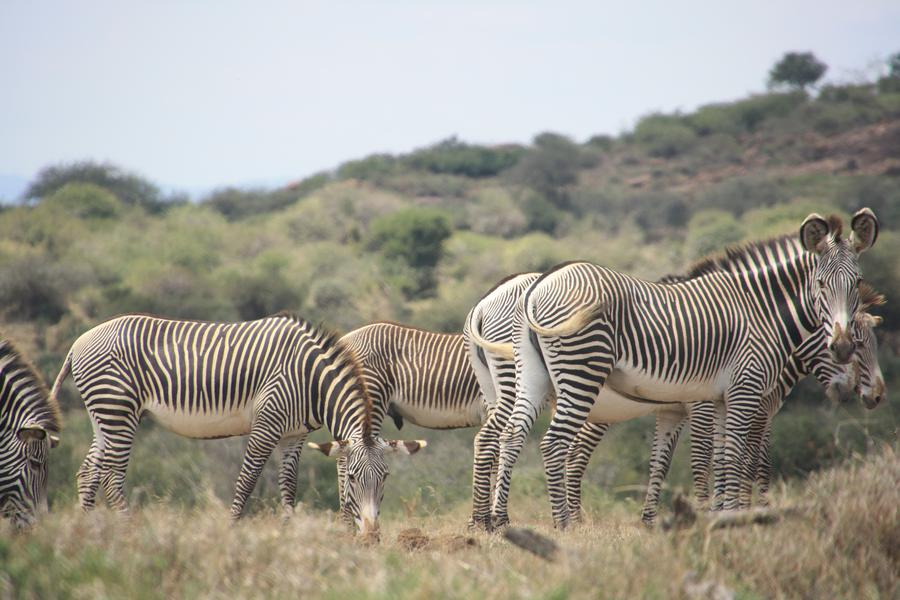zebra_grevys: (344, 303, 478, 428)
